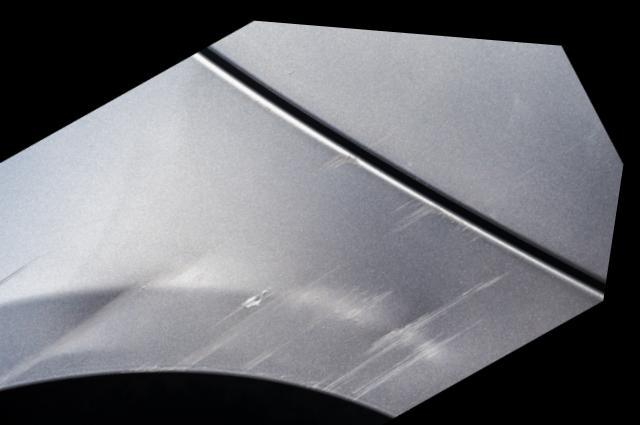scratch: (140, 142, 507, 397), (2, 241, 208, 391), (0, 254, 46, 290)
